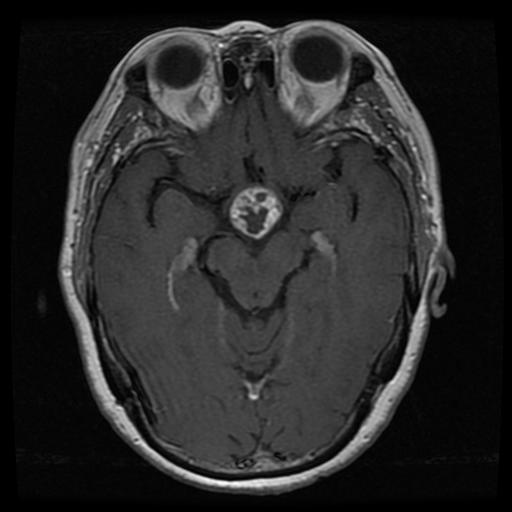Pituirity_tumour: (227, 184, 282, 239)
